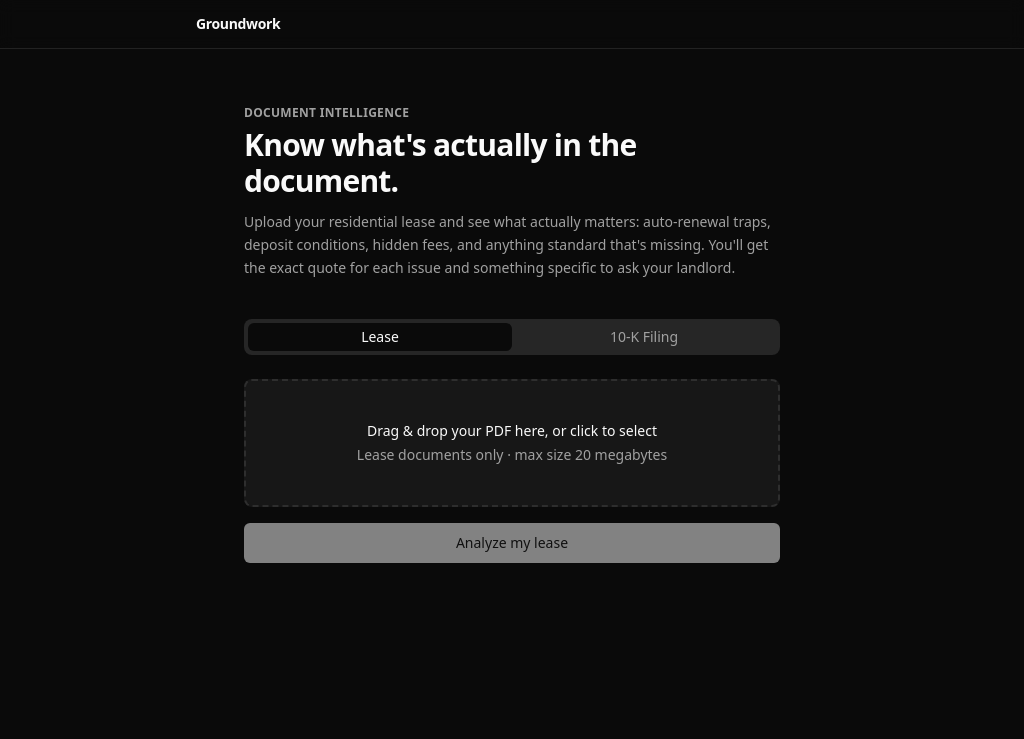
Test case: the 10-K tab offers EDGAR lookup as the primary path, with PDF upload as a fallback
The image size is (1024, 739).
Click the tab "10-K Filing".
click(644, 337)  # box [512,323,776,351]
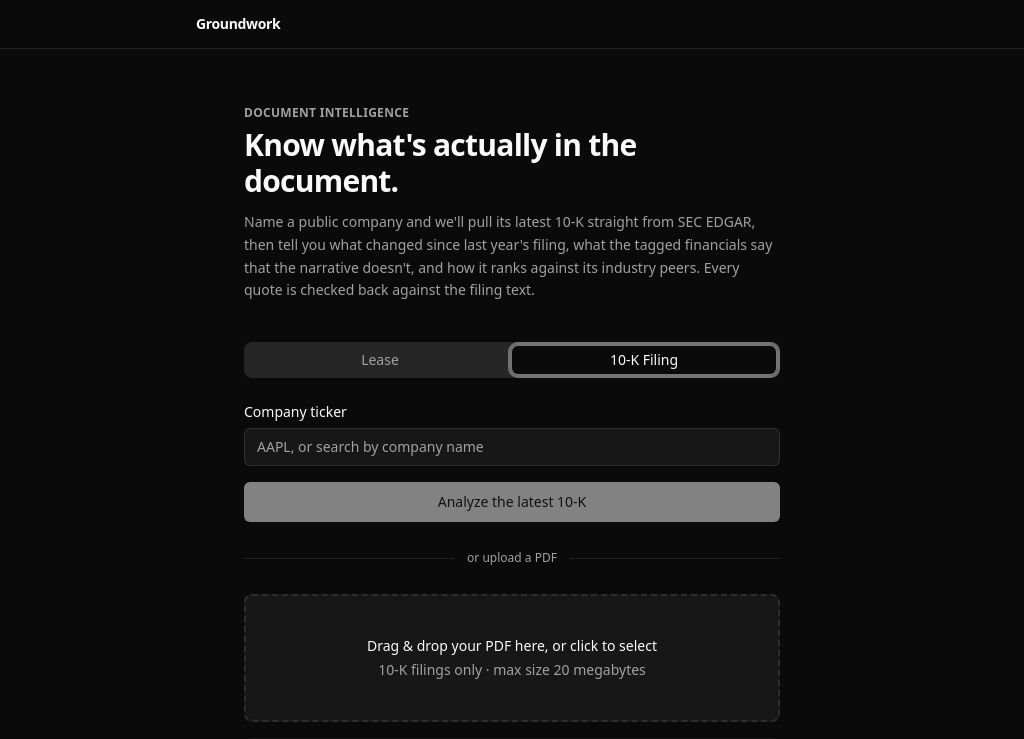
Expected: the dropdown labelled "Company ticker" is shown, [244,428,780,466]
Expected: the button "Analyze the latest 10-K" is disabled, [244,482,780,522]
Expected: the text "or upload a PDF" is shown, [467,550,557,566]
